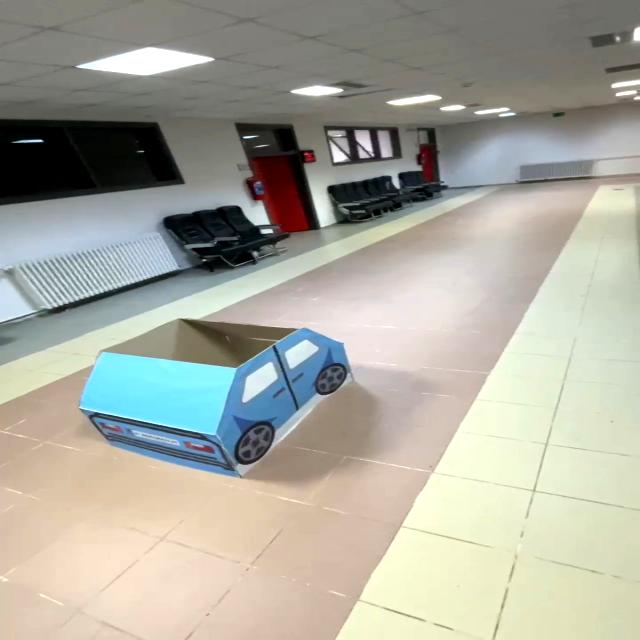blue_car: (47, 294, 375, 492)
